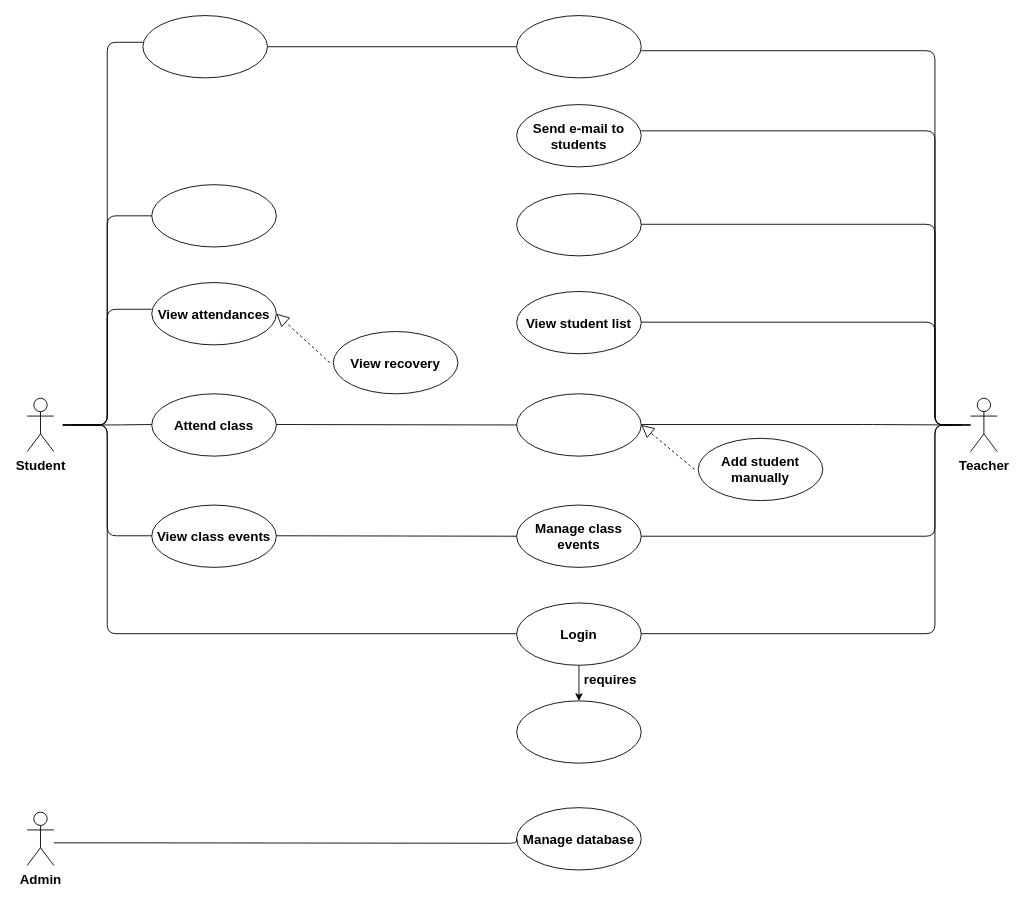
This 1024x903 diagram has some shape labels left out. Each missing label, with the centre of its shape:
Add student: pixel 578 424
Create calendar events: pixel 578 46
Export student attendances: pixel 578 224
Register: pixel 578 731
Send e-mail to teacher: pixel 213 215
View calendar events: pixel 204 46
